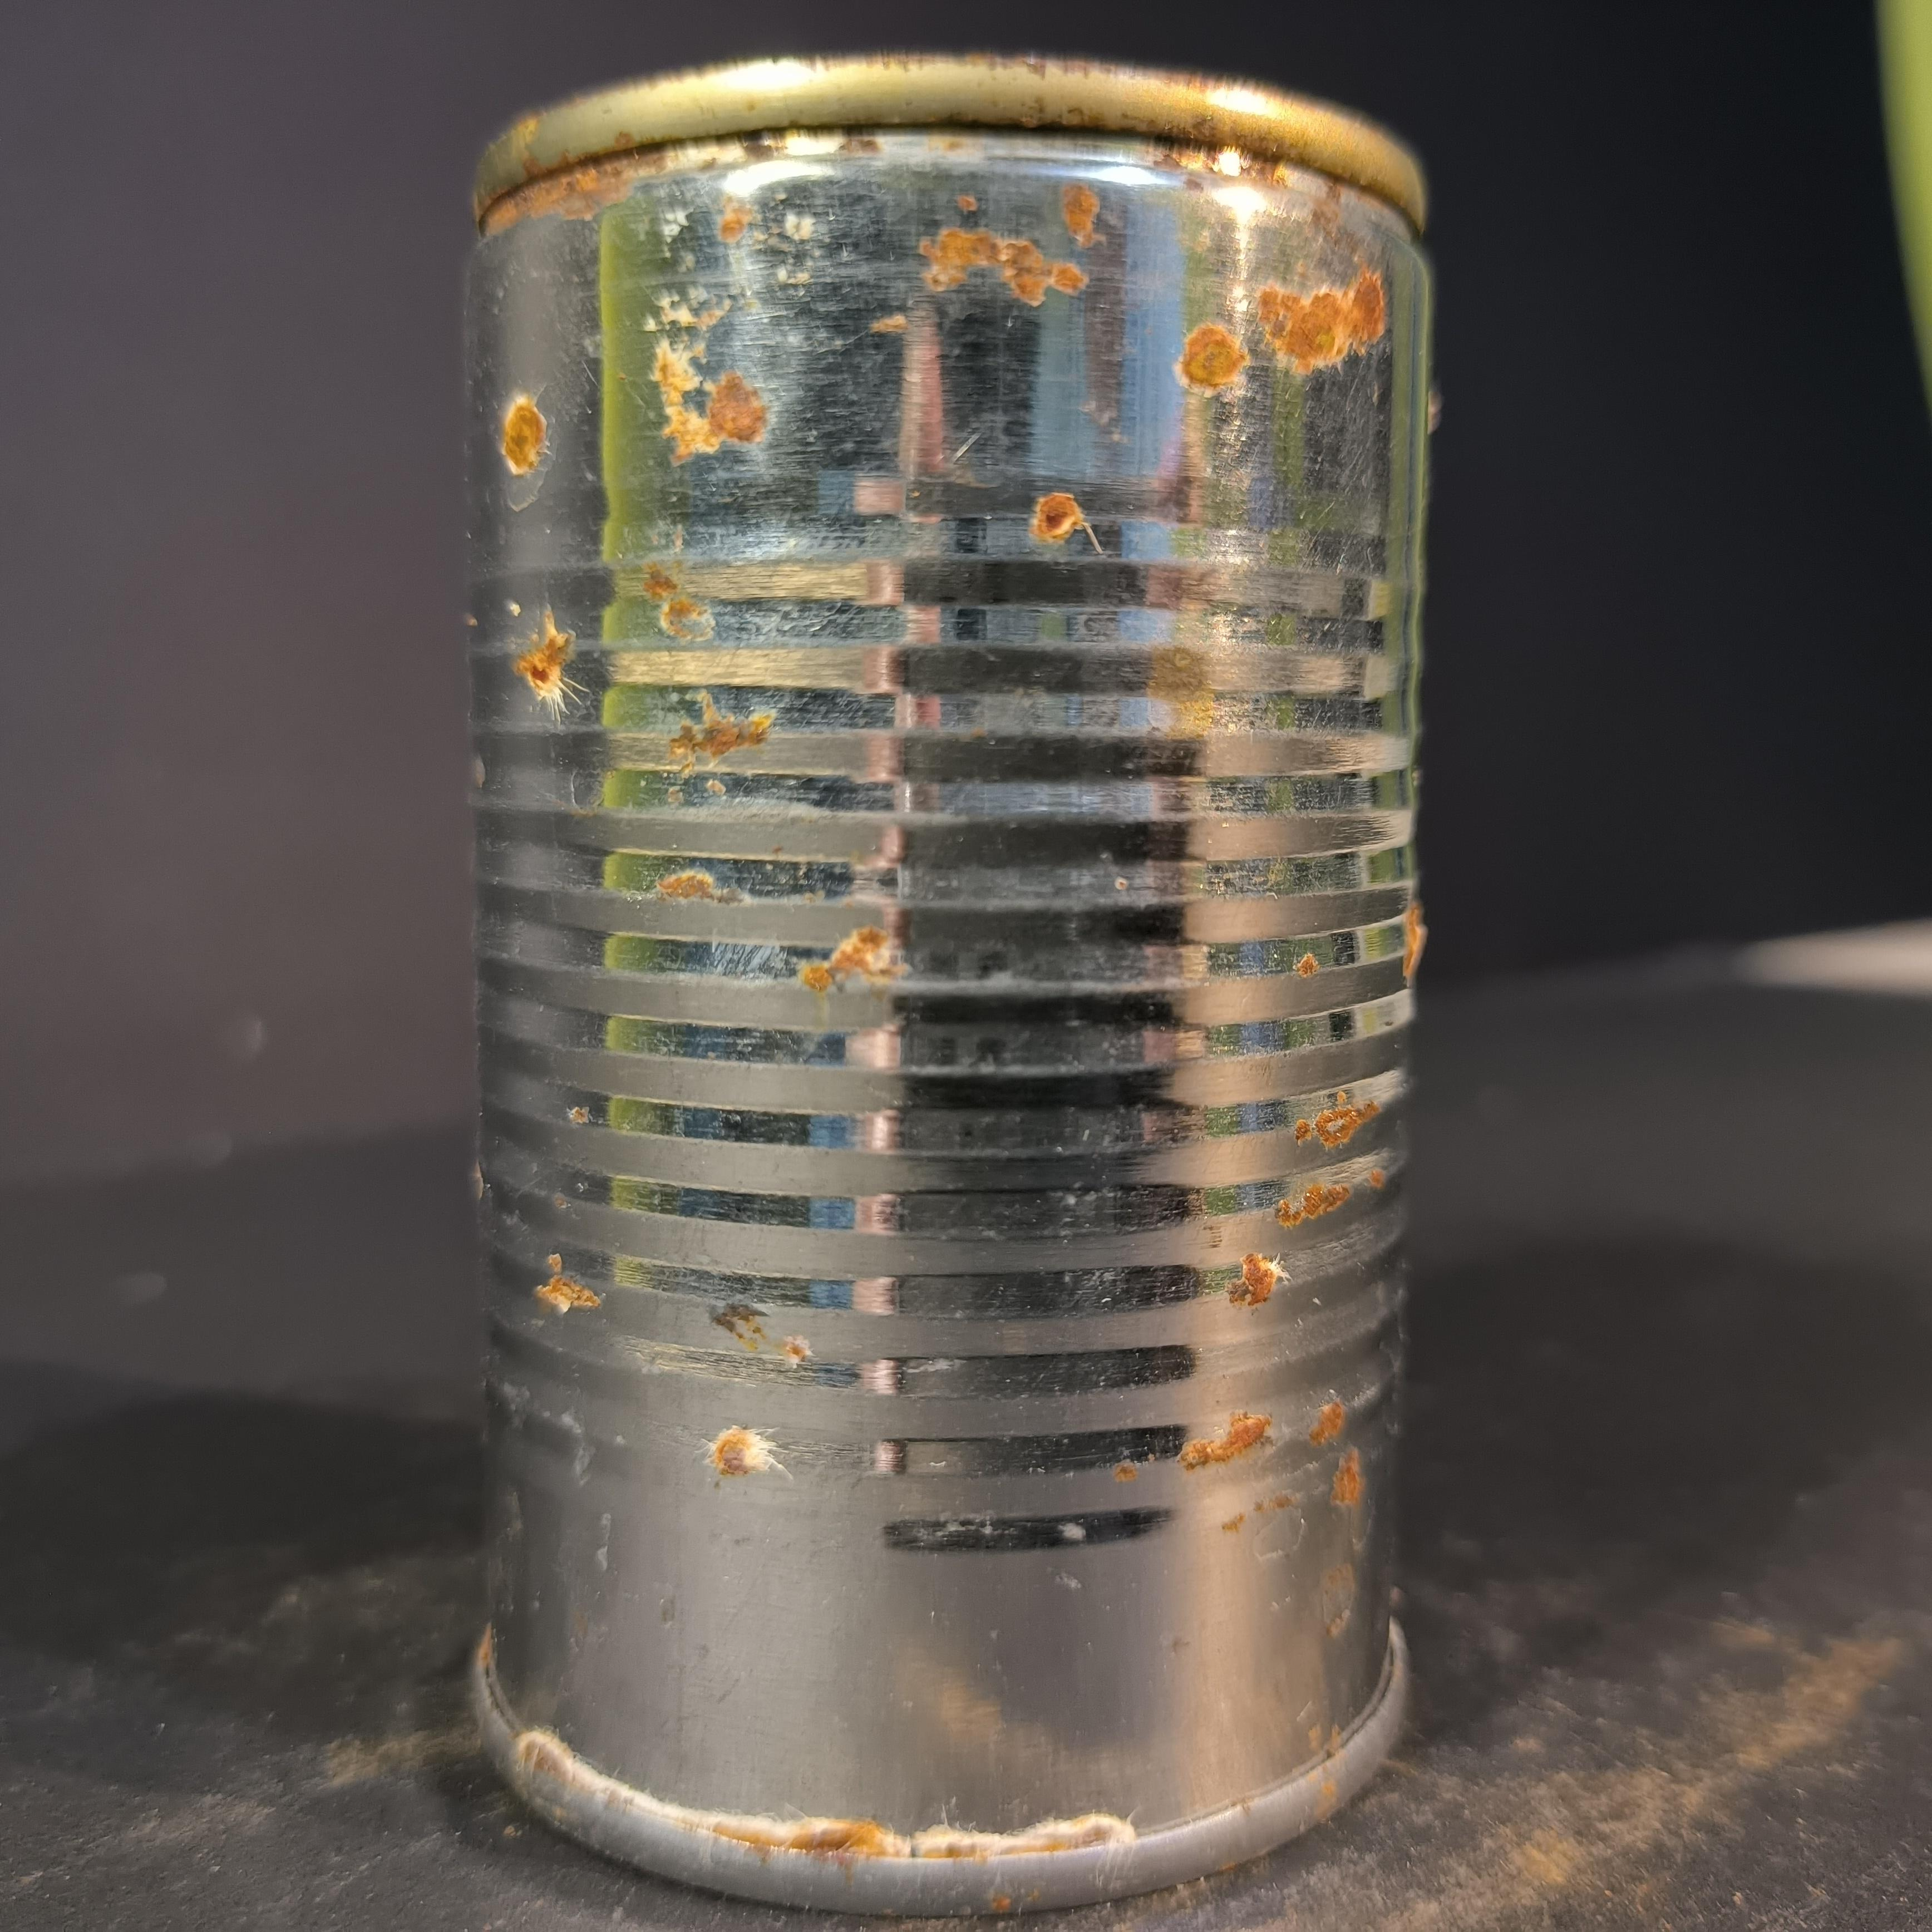Major Defect: (469, 55, 1437, 1918)
